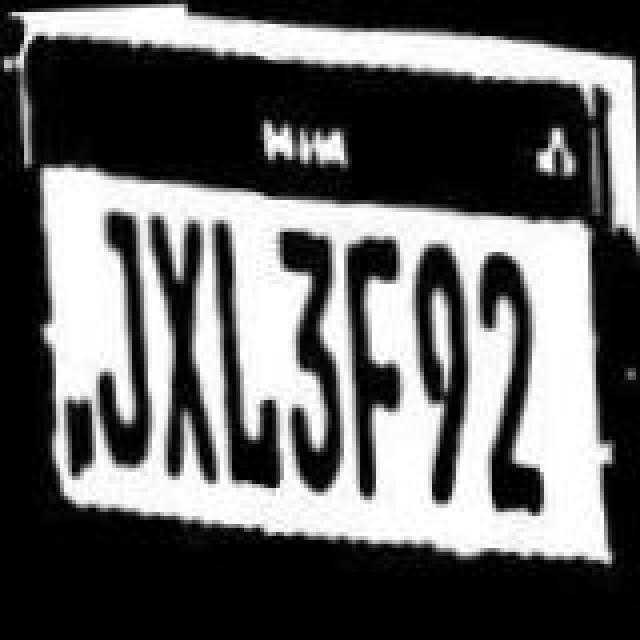2: (474, 250, 542, 526)
3: (276, 224, 340, 496)
9: (406, 232, 474, 508)
F: (338, 224, 406, 500)
J: (84, 192, 152, 492)
L: (208, 212, 280, 492)
X: (146, 214, 214, 490)
